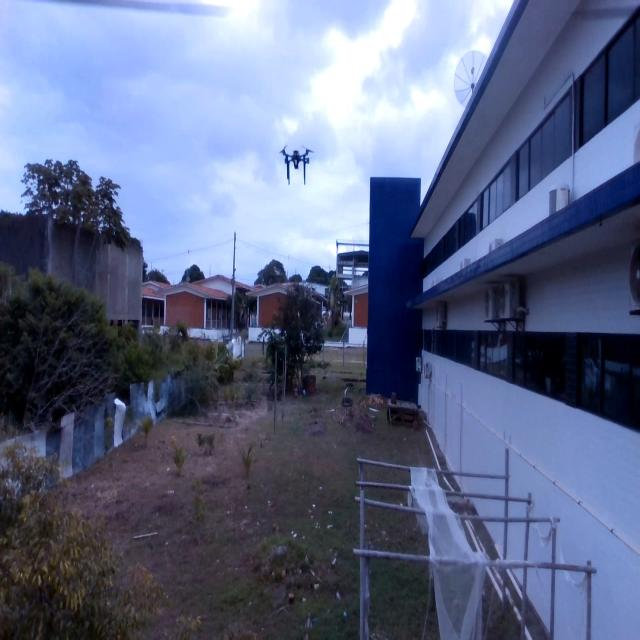-uav-: (272, 136, 316, 196)
